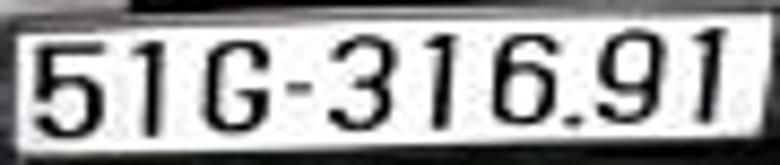-: (284, 79, 319, 97)
.: (562, 112, 586, 132)
1: (130, 38, 170, 136), (422, 32, 458, 134), (692, 26, 728, 127)
3: (324, 33, 397, 137)
5: (27, 42, 108, 139)
6: (491, 31, 560, 126)
9: (595, 32, 667, 127)
G: (199, 37, 274, 132)
